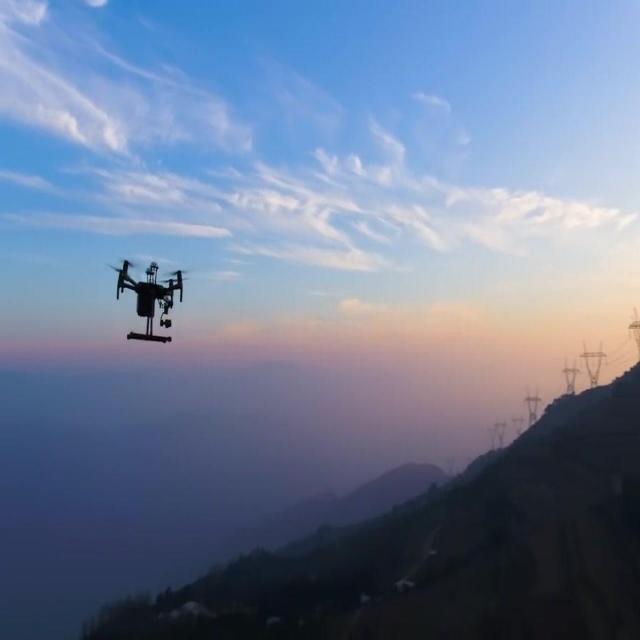UAV: (108, 259, 192, 344)
